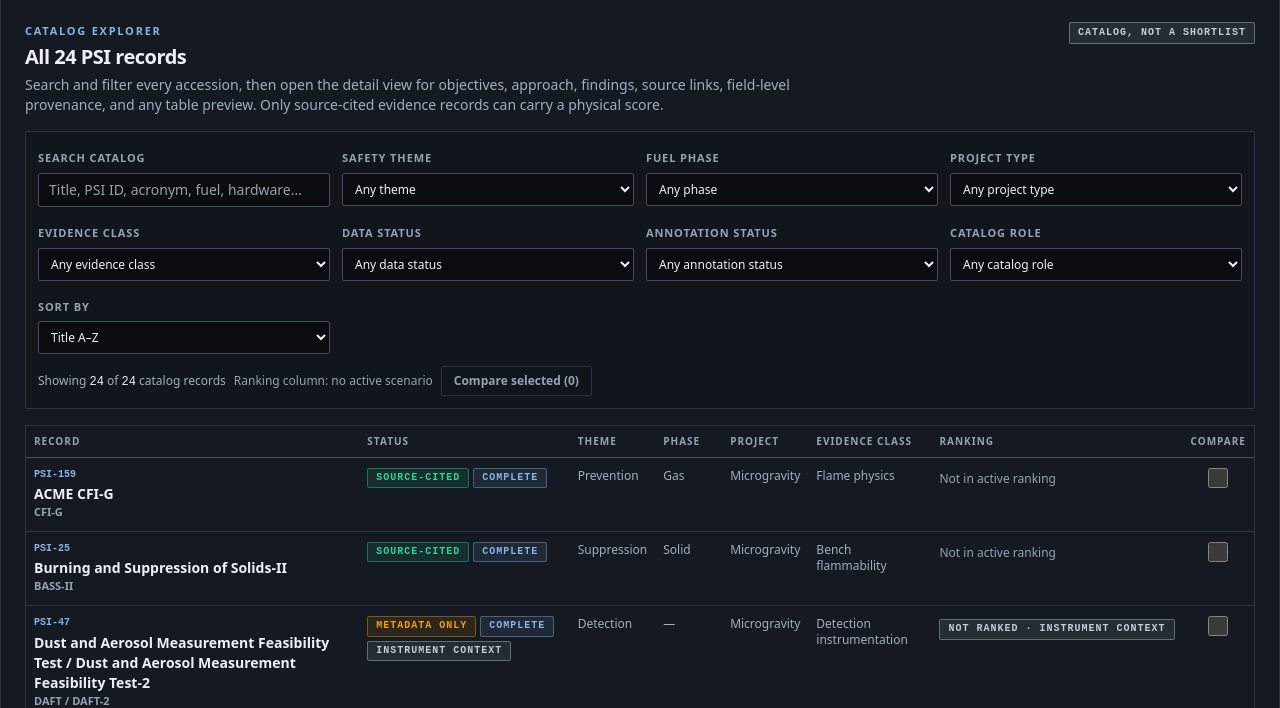
Test: Loading and error states › renders an empty state when filters match nothing and recovers on reset
Type "zzz-no-such-record" into the search field labelled "Search catalog" at coordinates (184, 190), box [38,173,330,207]
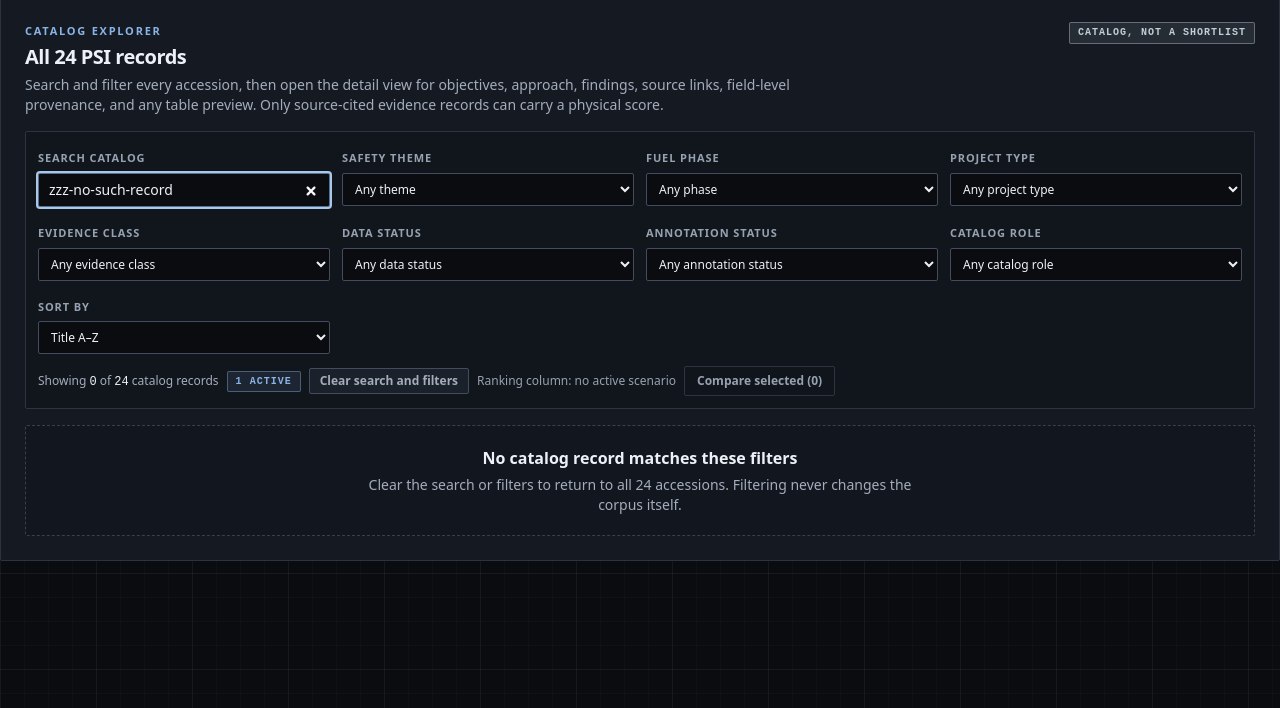
Expected: the text "No catalog record matches these filters" is shown, [482,447,798,469]
Click the button "Clear search and filters" at coordinates (389, 381), box [309,368,469,394]
(page scrolled)
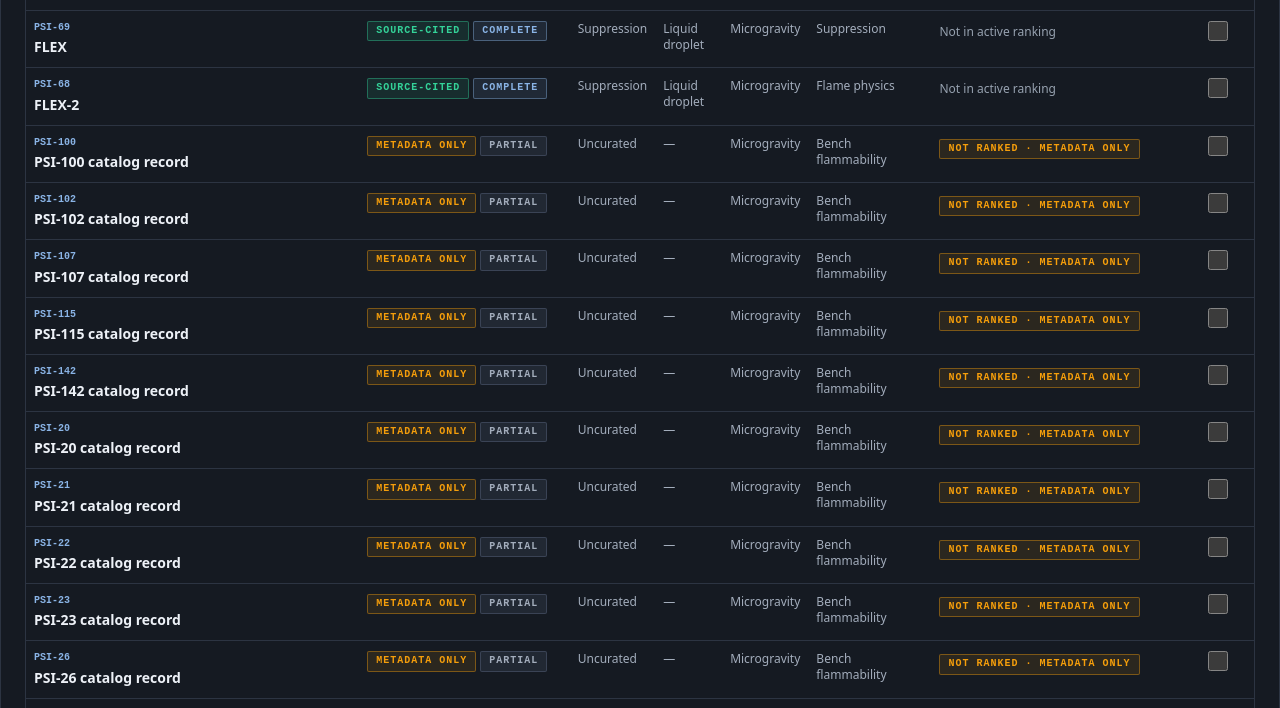
Expected: the text "No catalog record matches these filters" is gone
